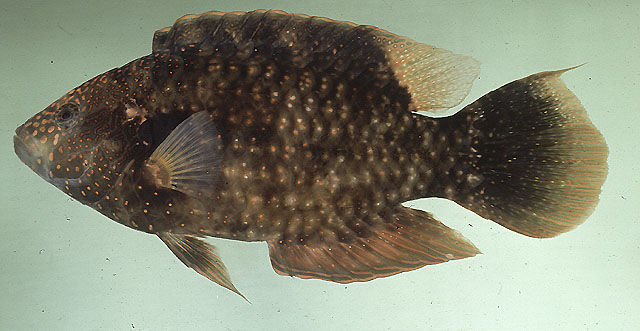fish: (15, 10, 610, 304)
